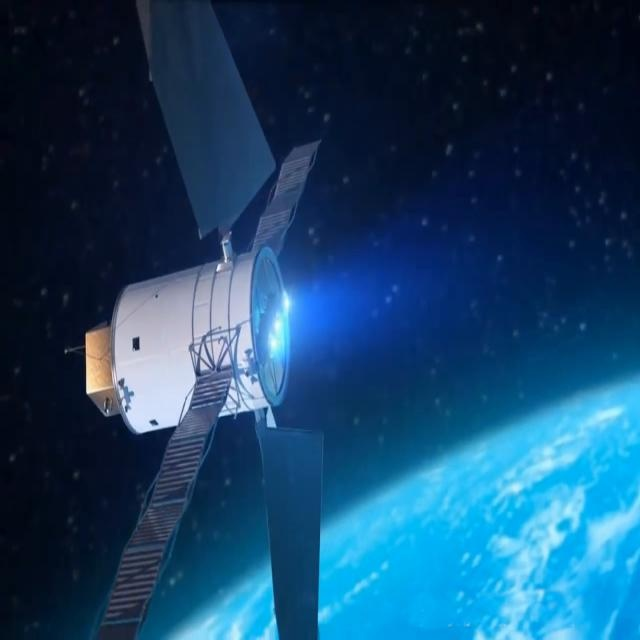satellite: (29, 0, 402, 640)
